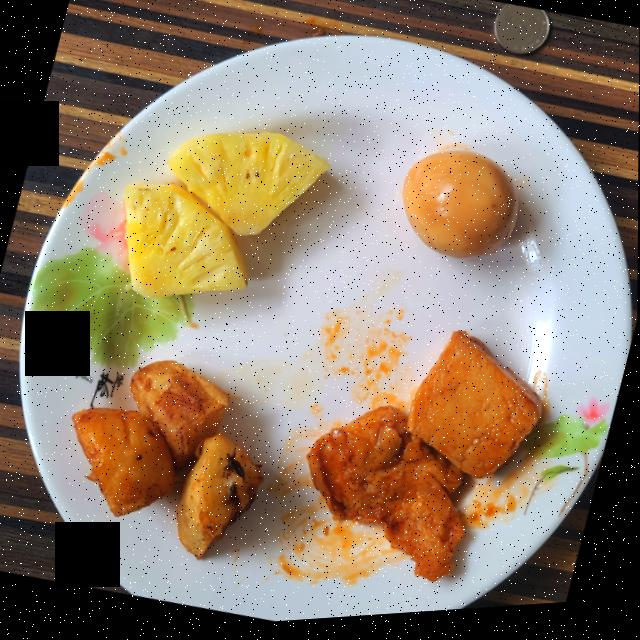coin: (493, 11, 550, 62)
creamy tofu: (307, 337, 542, 587)
fried potato: (72, 362, 264, 561)
pineapple: (124, 135, 329, 300)
soy egg: (402, 157, 518, 264)
